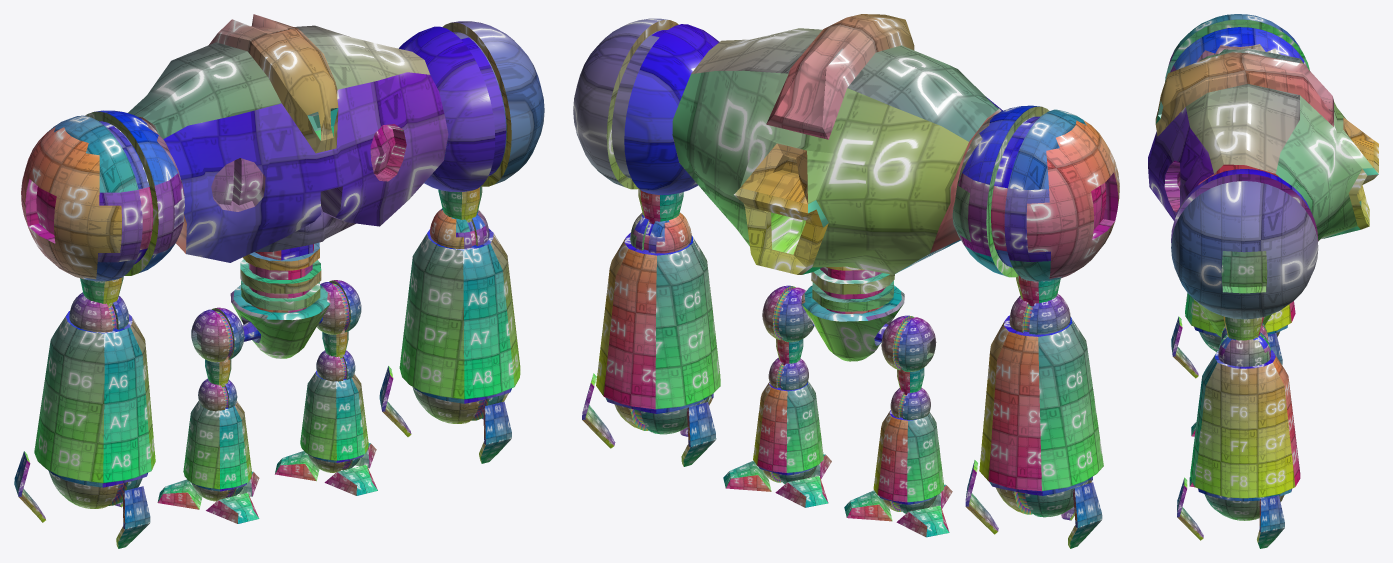
Rendered from robotexture2.obj.
3 views of the same model, side by side, from view 1: azimuth 30°, elevation 25°; view 2: azimuth 150°, elevation 25°; view 3: azimuth 270°, elevation 25° (orthographic). The views are drawn at different scales.
Parts seen in each view (by area): view 1: pCube9, pCube9 pasted__pasted__pasted__pSphere2, pCube9 pasted__pasted__pasted__pSphere2 pasted__pasted__pCube15 , pasted__pasted__pCube15 pasted__group23 group28, pasted__pasted__pSphere2 pasted__group18 group19, pCube14, pasted__pasted__pCube15 pasted__group23 group29, group34 pasted__pasted__pasted__pCube15 pasted__pasted__group23 , group34 pasted__pasted__pasted__pasted__pasted__pSphere2 pasted_, pasted__pasted__pasted__pSphere2 pasted__pasted__group18 pasted_, pasted__pasted__pasted__pasted__pSphere2 pasted__pasted__pasted_, group28 pasted__pasted__pasted__pasted__pasted__pSphere2 pasted_ (+10 smaller); view 2: pCube9, pCube9 pasted__pasted__pasted__pSphere2, pCube9 pasted__pasted__pasted__pSphere2 pasted__pasted__pCube15 , pasted__pasted__pCube15 pasted__group23 group28, pasted__pasted__pSphere2 pasted__group18 group19, pCube14, pasted__pasted__pCube15 pasted__group23 group29, group34 pasted__pasted__pasted__pCube15 pasted__pasted__group23 , group34 pasted__pasted__pasted__pasted__pasted__pSphere2 pasted_, pasted__pasted__pasted__pasted__pSphere2 pasted__pasted__pasted_, pasted__pasted__pasted__pSphere2 pasted__pasted__group18 pasted_, pasted__pCube16 group31 (+10 smaller); view 3: pCube9, pasted__pasted__pSphere2 pasted__group18 group19, pasted__pasted__pCube15 pasted__group23 group28, pCube9 pasted__pasted__pasted__pSphere2, pCube9 pasted__pasted__pasted__pSphere2 pasted__pasted__pCube15 , pasted__pasted__pasted__pSphere2 pasted__pasted__group18 pasted_, pasted__pCube16 group30, group28 pasted__pasted__pasted__pasted__pasted__pSphere2 pasted_, pasted__pCube15 group21, pCube16, pCube14.
Part boxes in pixels (<box>): pCube9: <box>128,14,448,262</box>; pCube9 pasted__pasted__pasted__pSphere2: <box>21,110,184,281</box>; pCube9 pasted__pasted__pasted__pSphere2 pasted__pasted__pCube15 : <box>14,292,155,548</box>; pasted__pasted__pCube15 pasted__group23 group28: <box>399,229,520,403</box>; pasted__pasted__pSphere2 pasted__group18 group19: <box>399,21,544,191</box>; pCube14: <box>230,242,330,358</box>; pasted__pasted__pCube15 pasted__group23 group29: <box>300,370,368,462</box>; group34 pasted__pasted__pasted__pCube15 pasted__pasted__group23 : <box>183,401,251,491</box>; group34 pasted__pasted__pasted__pasted__pasted__pSphere2 pasted_: <box>191,307,244,362</box>; pasted__pasted__pasted__pSphere2 pasted__pasted__group18 pasted_: <box>430,208,489,248</box>; pasted__pasted__pasted__pasted__pSphere2 pasted__pasted__pasted_: <box>317,280,361,334</box>; group28 pasted__pasted__pasted__pasted__pasted__pSphere2 pasted_: <box>412,387,504,423</box>; pCube9: <box>672,14,1002,274</box>; pCube9 pasted__pasted__pasted__pSphere2: <box>952,105,1119,281</box>; pCube9 pasted__pasted__pasted__pSphere2 pasted__pasted__pCube15 : <box>965,294,1103,548</box>; pasted__pasted__pCube15 pasted__group23 group28: <box>596,232,720,413</box>; pasted__pasted__pSphere2 pasted__group18 group19: <box>573,18,719,194</box>; pCube14: <box>801,266,904,361</box>; pasted__pasted__pCube15 pasted__group23 group29: <box>753,381,823,475</box>; group34 pasted__pasted__pasted__pCube15 pasted__pasted__group23 : <box>873,410,943,504</box>; group34 pasted__pasted__pasted__pasted__pasted__pSphere2 pasted_: <box>881,315,936,371</box>; pasted__pasted__pasted__pasted__pSphere2 pasted__pasted__pasted_: <box>762,285,814,342</box>; pasted__pasted__pasted__pSphere2 pasted__pasted__group18 pasted_: <box>630,212,691,253</box>; pasted__pCube16 group31: <box>681,402,716,466</box>; pCube9: <box>1148,48,1378,240</box>; pasted__pasted__pSphere2 pasted__group18 group19: <box>1171,169,1318,319</box>; pasted__pasted__pCube15 pasted__group23 group28: <box>1190,350,1300,501</box>; pCube9 pasted__pasted__pasted__pSphere2: <box>1165,14,1309,81</box>; pCube9 pasted__pasted__pasted__pSphere2 pasted__pasted__pCube15 : <box>1171,293,1295,378</box>; pasted__pasted__pasted__pSphere2 pasted__pasted__group18 pasted_: <box>1218,332,1270,366</box>; pasted__pCube16 group30: <box>1257,495,1284,548</box>; group28 pasted__pasted__pasted__pasted__pasted__pSphere2 pasted_: <box>1204,494,1284,520</box>; pasted__pCube15 group21: <box>1223,316,1263,340</box>; pCube16: <box>1177,477,1203,540</box>; pCube14: <box>1198,303,1271,336</box>.
Bounding box in the file's own units: 4.59 × 4.02 × 2.08.
Materials: 5 (5 with a texture image).
